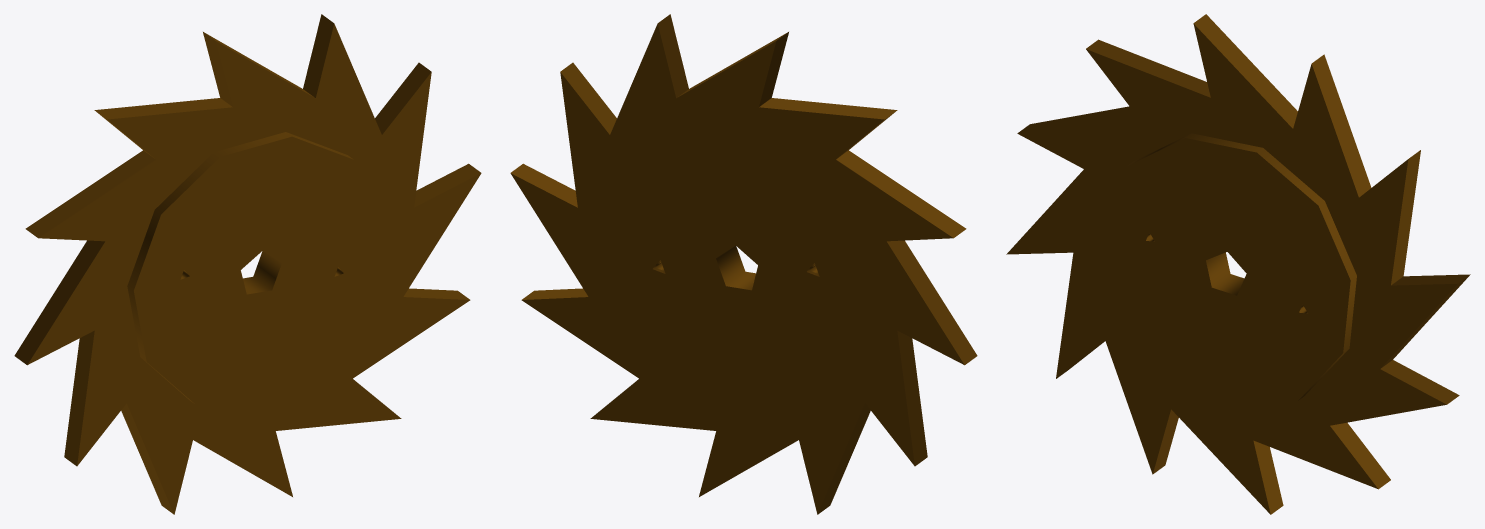
The model's file is Roue dente etoile_Limacon Heures.obj.
3 views of the same model, side by side, from view 1: azimuth 30°, elevation 25°; view 2: azimuth 150°, elevation 25°; view 3: azimuth 330°, elevation 25° (orthographic).
Parts seen in each view (by area): view 1: Face_1, Face_27, Face_28, Face_10, Face_8, Face_12, Face_6, Face_25, Face_3, Face_23, Face_14, Face_29 (+2 smaller); view 2: Face_2, Face_10, Face_8, Face_12, Face_6, Face_25, Face_3, Face_29, Face_23, Face_14, Face_5, Face_21; view 3: Face_1, Face_27, Face_28, Face_4, Face_26, Face_6, Face_24, Face_19, Face_21, Face_17, Face_29, Face_8 (+2 smaller).
Boxes of the visible parts, x1,y1,x2,y2 form: Face_1: [27, 24, 481, 514]; Face_27: [134, 136, 386, 406]; Face_28: [127, 132, 353, 403]; Face_10: [14, 240, 104, 364]; Face_8: [25, 150, 155, 237]; Face_12: [64, 330, 94, 466]; Face_6: [94, 98, 232, 119]; Face_25: [375, 62, 431, 134]; Face_3: [303, 14, 334, 97]; Face_23: [414, 163, 480, 207]; Face_14: [121, 403, 173, 514]; Face_29: [243, 251, 281, 294]; Face_2: [510, 24, 964, 514]; Face_10: [887, 240, 977, 364]; Face_8: [836, 150, 966, 237]; Face_12: [897, 330, 927, 466]; Face_6: [759, 98, 897, 119]; Face_25: [560, 62, 616, 134]; Face_3: [657, 14, 688, 97]; Face_29: [716, 246, 755, 290]; Face_23: [511, 163, 577, 207]; Face_14: [818, 403, 870, 514]; Face_5: [759, 32, 788, 106]; Face_21: [522, 288, 588, 299]; Face_1: [1006, 23, 1457, 514]; Face_27: [1099, 138, 1350, 407]; Face_28: [1128, 133, 1356, 400]; Face_4: [1193, 14, 1297, 128]; Face_26: [1311, 54, 1371, 197]; Face_6: [1086, 39, 1210, 97]; Face_24: [1391, 150, 1420, 285]; Face_19: [1330, 422, 1390, 489]; Face_21: [1380, 360, 1459, 404]; Face_17: [1253, 440, 1283, 514]; Face_29: [1206, 252, 1244, 295]; Face_8: [1017, 106, 1133, 133].
Bounding box in the file's own units: 0.0409 × 0.0409 × 0.003.
